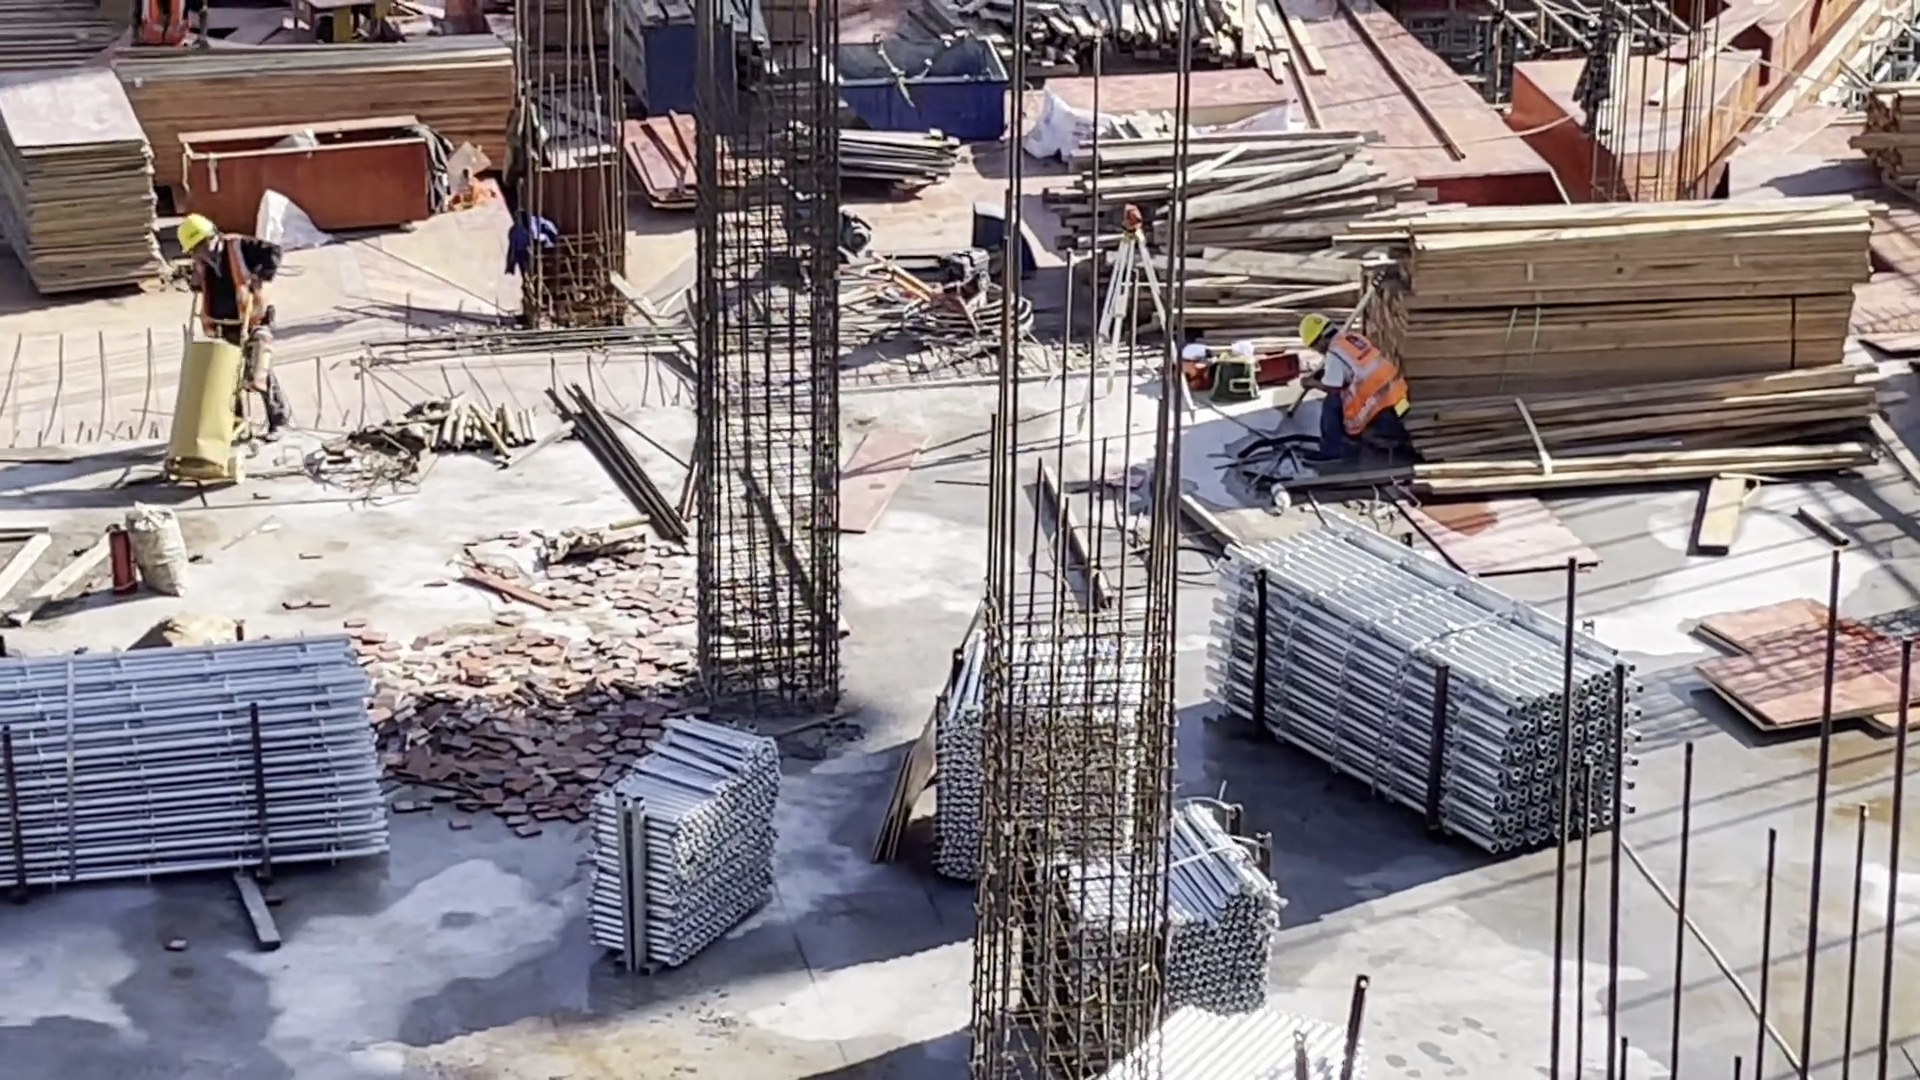board: (1, 71, 167, 301)
helmet: (177, 216, 213, 246), (1303, 312, 1329, 349)
hopper: (812, 40, 1006, 140)
person: (177, 215, 291, 419), (1300, 311, 1408, 465)
scaffold: (933, 593, 1364, 1080), (1203, 512, 1640, 867), (3, 634, 394, 882), (587, 713, 787, 970)
vest: (189, 239, 270, 338), (1333, 331, 1407, 439)
wood: (1333, 184, 1885, 495), (1048, 123, 1370, 344), (120, 44, 513, 194), (1847, 79, 1920, 185)
